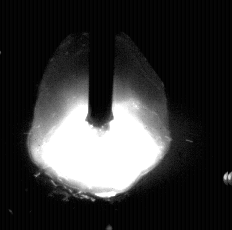arame: (89, 0, 115, 127)
poca: (27, 0, 170, 230)
